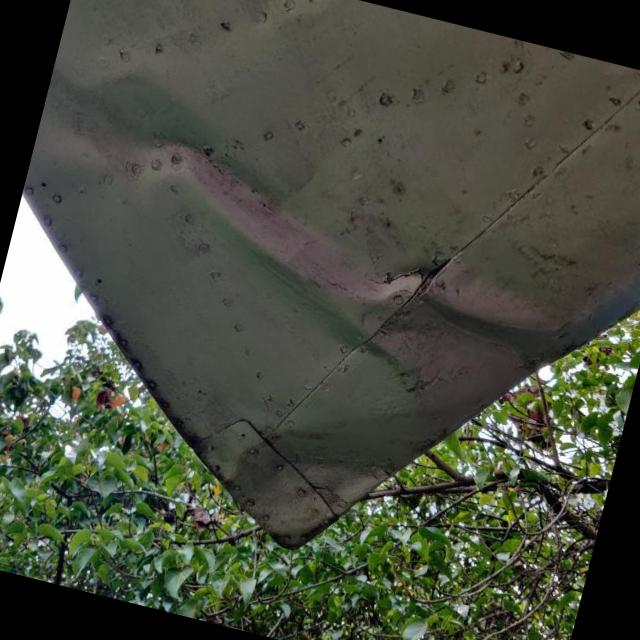Crack: (375, 251, 451, 283)
Dent: (24, 29, 621, 372), (201, 421, 407, 548)
